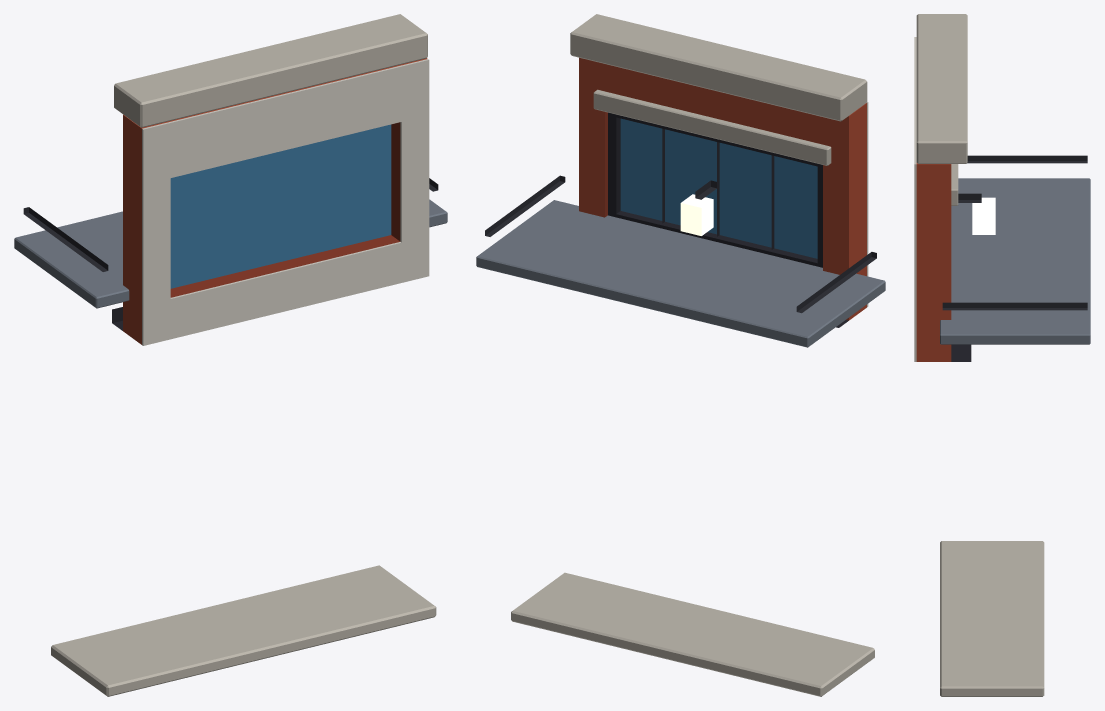
Rendered from hall_door_wall.glb.
3 views of the same model, side by side, from view 1: azimuth 30°, elevation 25°; view 2: azimuth 150°, elevation 25°; view 3: azimuth 270°, elevation 25° (orthographic). The views are drawn at different scales.
Parts seen in each view (by area): view 1: wall; view 2: wall; view 3: wall.
Boxes of the visible parts, x1,y1,x2,y2 form: wall: (14,14,447,696); wall: (476,14,885,696); wall: (914,14,1090,696).
Bounding box in the file's own units: 3.2 × 5.2 × 1.52.
